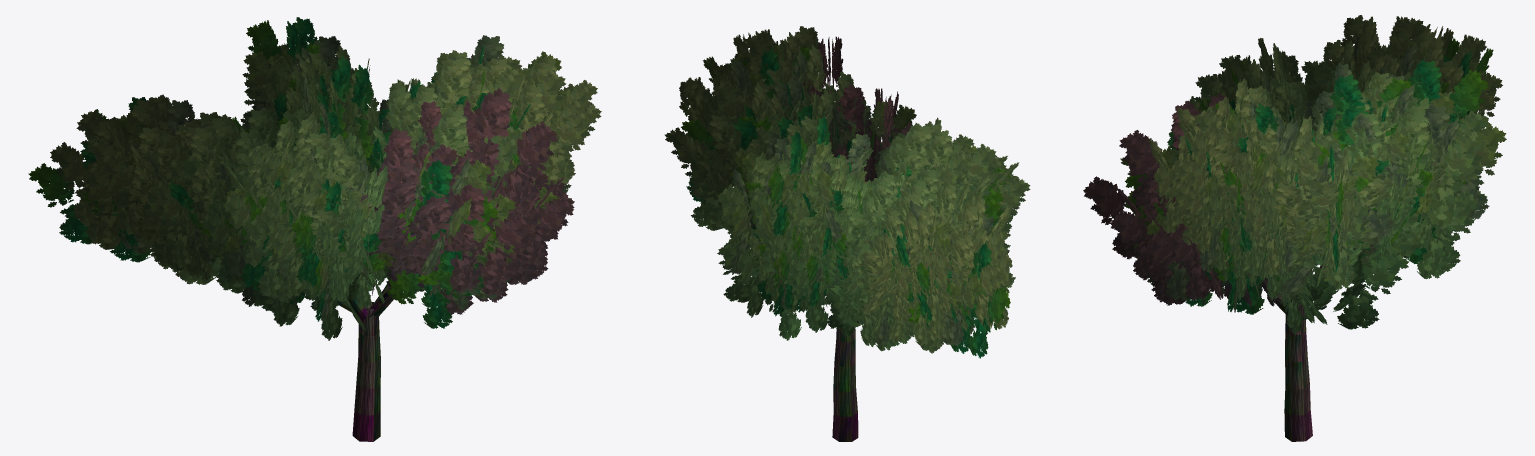
File: nat_oak_a_LOD1.glb
The picture shows the model from 3 angles, left to right: view 1: azimuth 30°, elevation 25°; view 2: azimuth 150°, elevation 25°; view 3: azimuth 270°, elevation 25°; orthographic projection. The views are drawn at different scales.
Visible parts, largest first — view 1: nat_oak_a_LOD1; view 2: nat_oak_a_LOD1; view 3: nat_oak_a_LOD1.
Boxes of the visible parts, left/top/right/bottom form: nat_oak_a_LOD1: left=28, top=17, right=601, bottom=441; nat_oak_a_LOD1: left=664, top=26, right=1030, bottom=441; nat_oak_a_LOD1: left=1083, top=15, right=1506, bottom=441.
Bounding box in the file's own units: 11.21 × 9.04 × 9.23.
2 materials, 2 textured.
